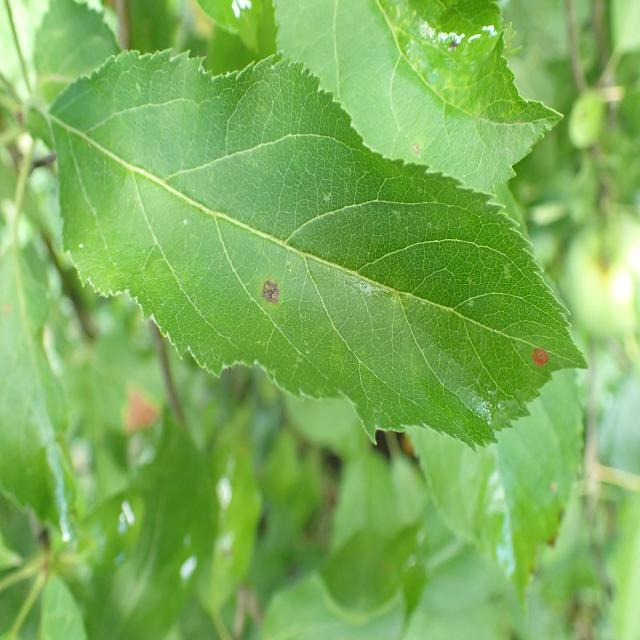Black Rot: (254, 259, 286, 321), (527, 338, 553, 385)
